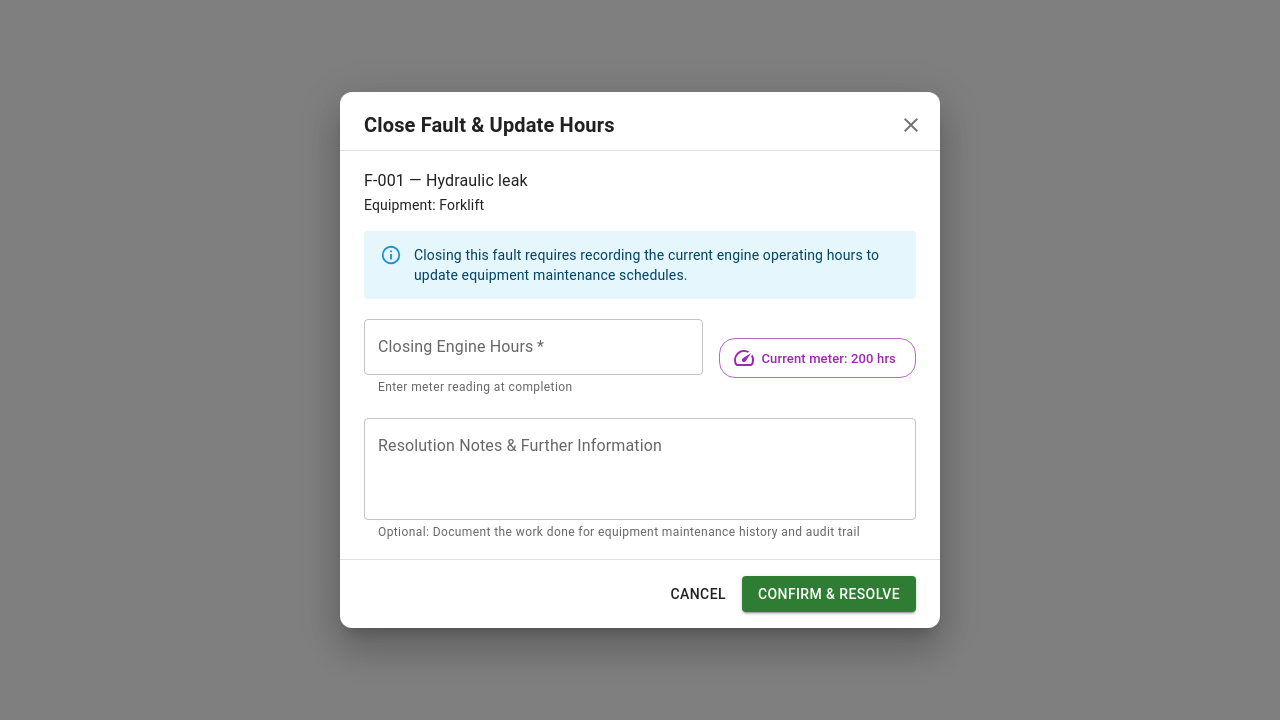
Test: CloseFaultDialog › warns when the entered hours are lower than the current equipment reading
The image size is (1280, 720).
Type "150" into the number field labelled "Closing Engine Hours *" at (534,347), box [364,319,703,375]
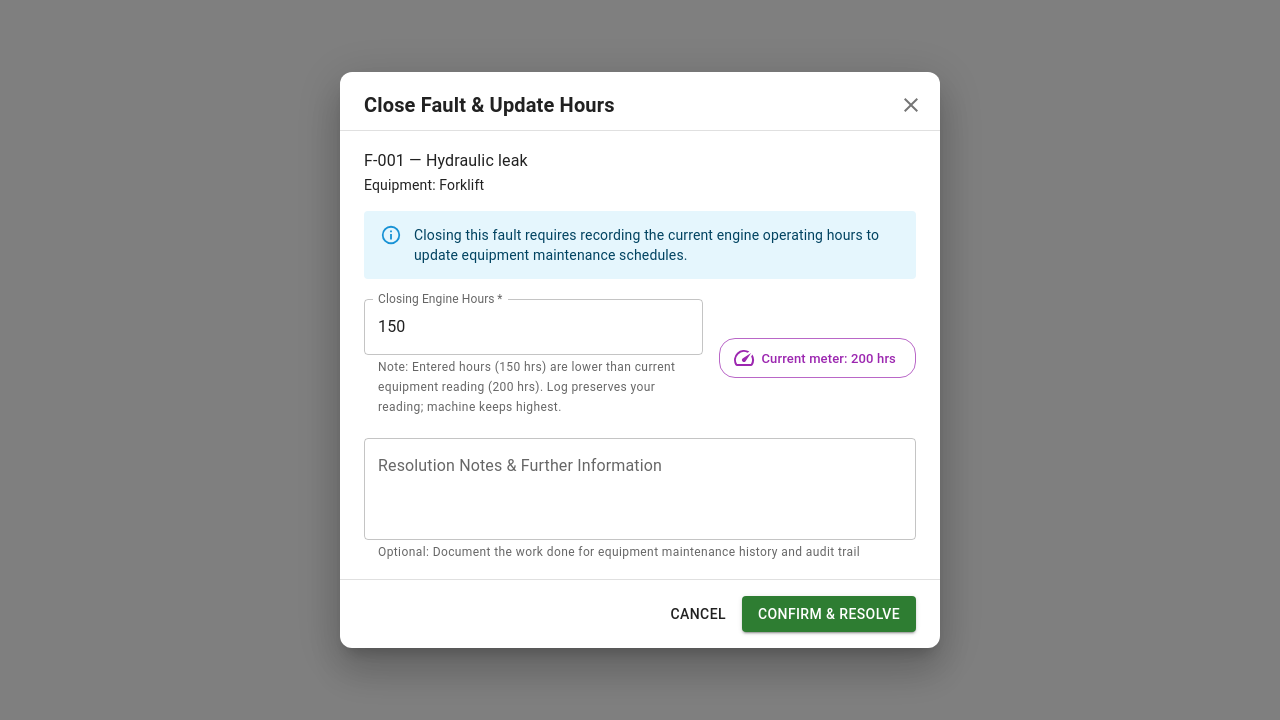
Expected: the text "lower than current equipment reading (200 hrs)" is shown, [378,360,675,414]
